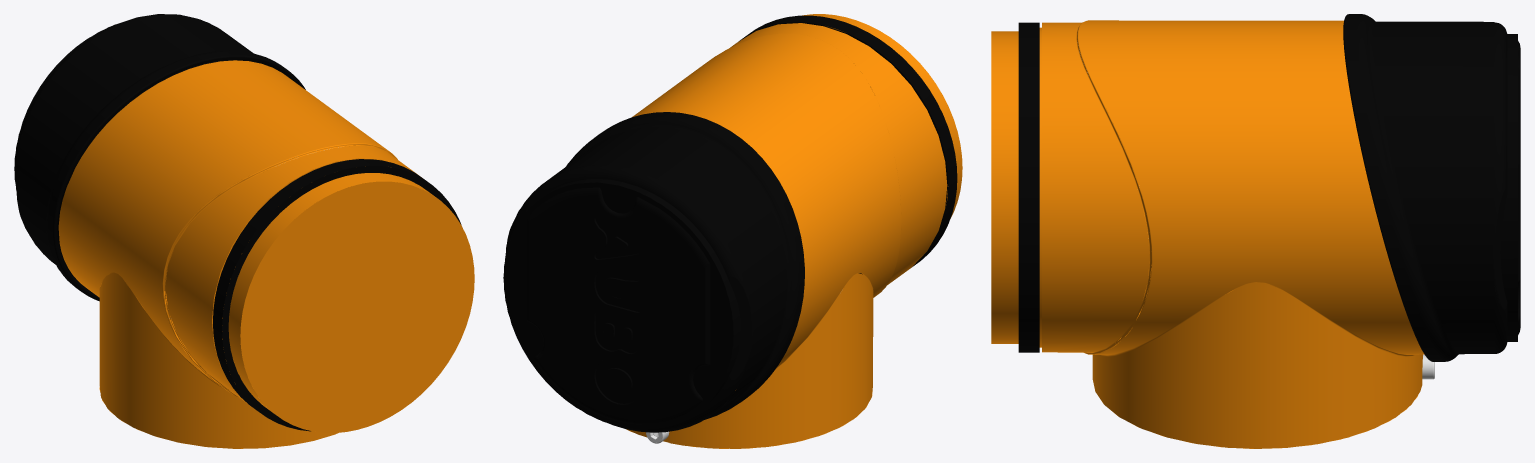
File: wrist2_Link.DAE
3 renders of one model, left to right at view 1: azimuth 30°, elevation 25°; view 2: azimuth 150°, elevation 25°; view 3: azimuth 270°, elevation 25°, orthographic. The views are drawn at different scales.
Parts seen in each view (by area): view 1: NONE-DC_Shell_ncl1_1, NONE-DC_Shell_ncl1_2, NONE-DC_Shell_ncl1_3, NONE-DC_Shell; view 2: NONE-DC_Shell_ncl1_3, NONE-DC_Shell_ncl1_1, NONE-DC_Shell, NONE-DC_Shell_ncl1_2; view 3: NONE-DC_Shell_ncl1_1, NONE-DC_Shell_ncl1_3, NONE-DC_Shell_ncl1_2, NONE-DC_Shell.
Part boxes in pixels (x1,y1,x2,y2): NONE-DC_Shell_ncl1_1: (58, 60, 419, 448); NONE-DC_Shell_ncl1_2: (228, 173, 474, 432); NONE-DC_Shell_ncl1_3: (14, 14, 305, 301); NONE-DC_Shell: (213, 159, 461, 431); NONE-DC_Shell_ncl1_3: (503, 112, 804, 432); NONE-DC_Shell_ncl1_1: (626, 23, 947, 448); NONE-DC_Shell: (738, 15, 957, 274); NONE-DC_Shell_ncl1_2: (802, 14, 962, 218); NONE-DC_Shell_ncl1_1: (1039, 20, 1424, 448); NONE-DC_Shell_ncl1_3: (1343, 14, 1520, 361); NONE-DC_Shell_ncl1_2: (991, 31, 1018, 343); NONE-DC_Shell: (1018, 22, 1039, 352).
Size of the model in its own units: 0.079 by 0.1202 by 0.0874.
